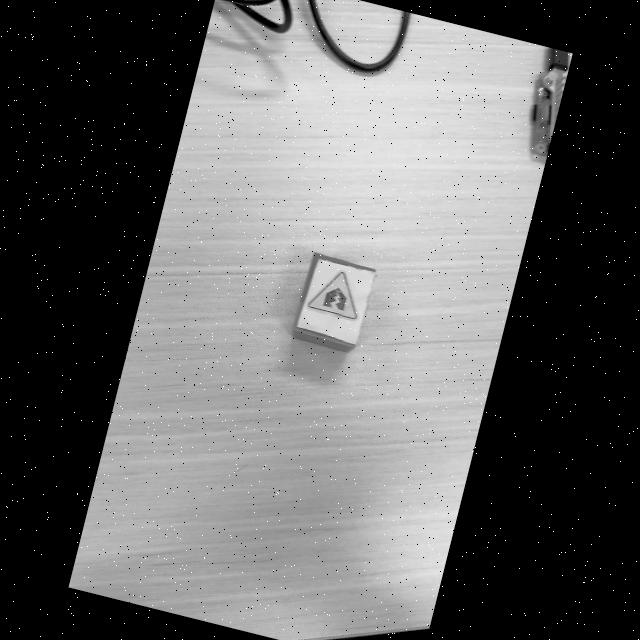Earthquake: (307, 271, 357, 320)
